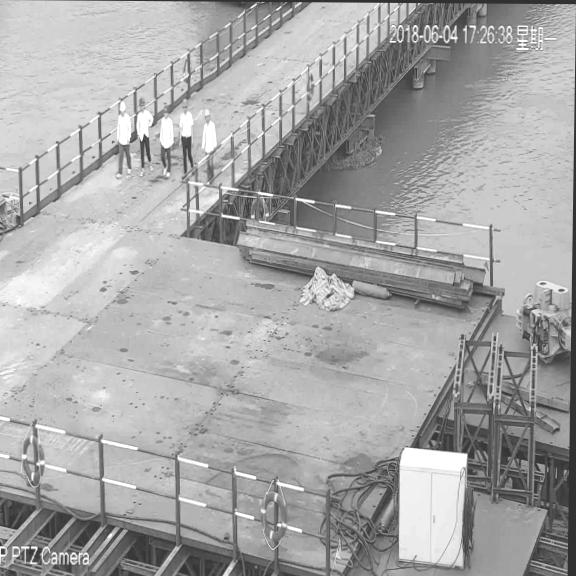no_safety_vest: (178, 110, 194, 145), (201, 120, 217, 155), (136, 109, 152, 141), (116, 114, 131, 147), (160, 117, 174, 149)
